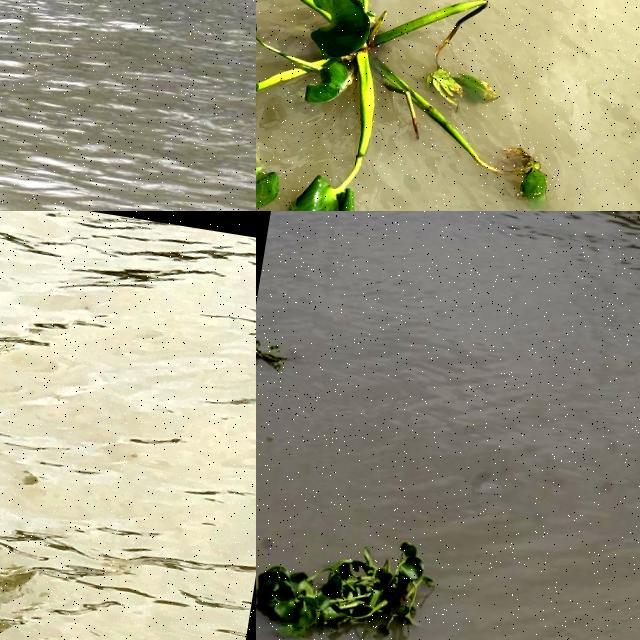water-hyacinth: (257, 1, 615, 212), (257, 518, 444, 640), (257, 337, 297, 377)
